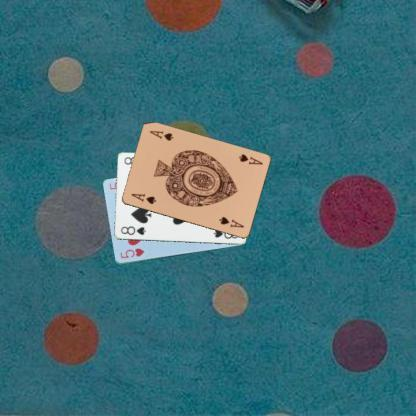5h: (117, 245, 146, 260)
8s: (118, 224, 147, 236)
As: (128, 191, 157, 206), (236, 151, 263, 166)
